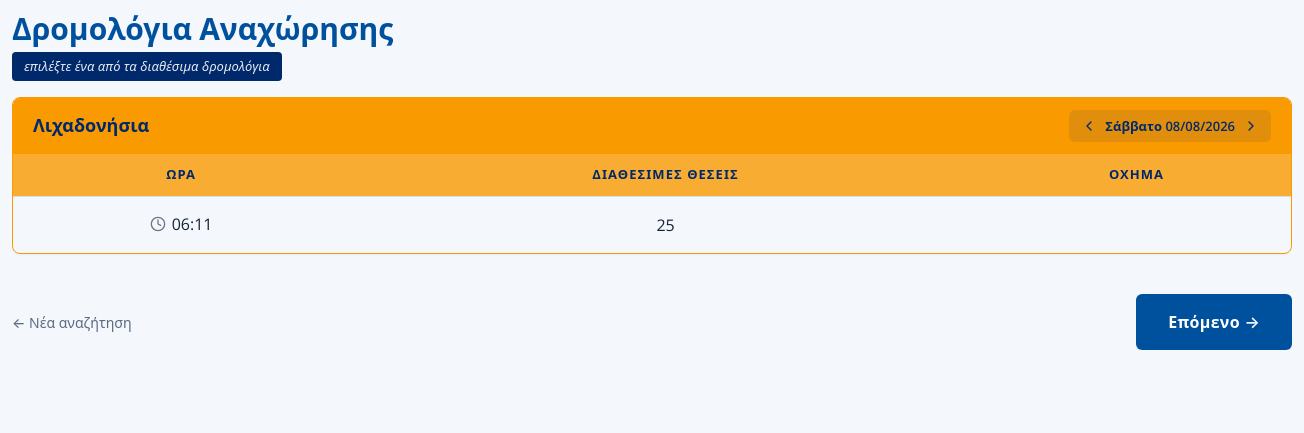
Test: TripList — εμφάνιση και ροή › «Επόμενο» χωρίς επιλογή δείχνει σφάλμα και δεν πλοηγεί
This screenshot has width=1304, height=433.
Click the button "Επόμενο →". click: coordinates (1214, 322)
box: 1136,294 -> 1292,350
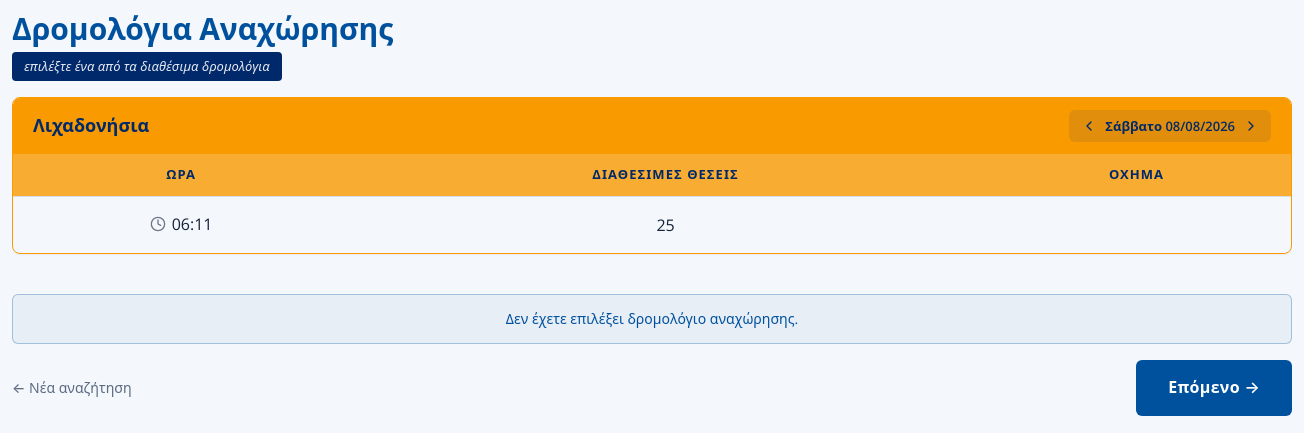
Now the text "Δεν έχετε επιλέξει δρομολόγιο αναχώρησης." is shown, box 12,294 -> 1292,344
